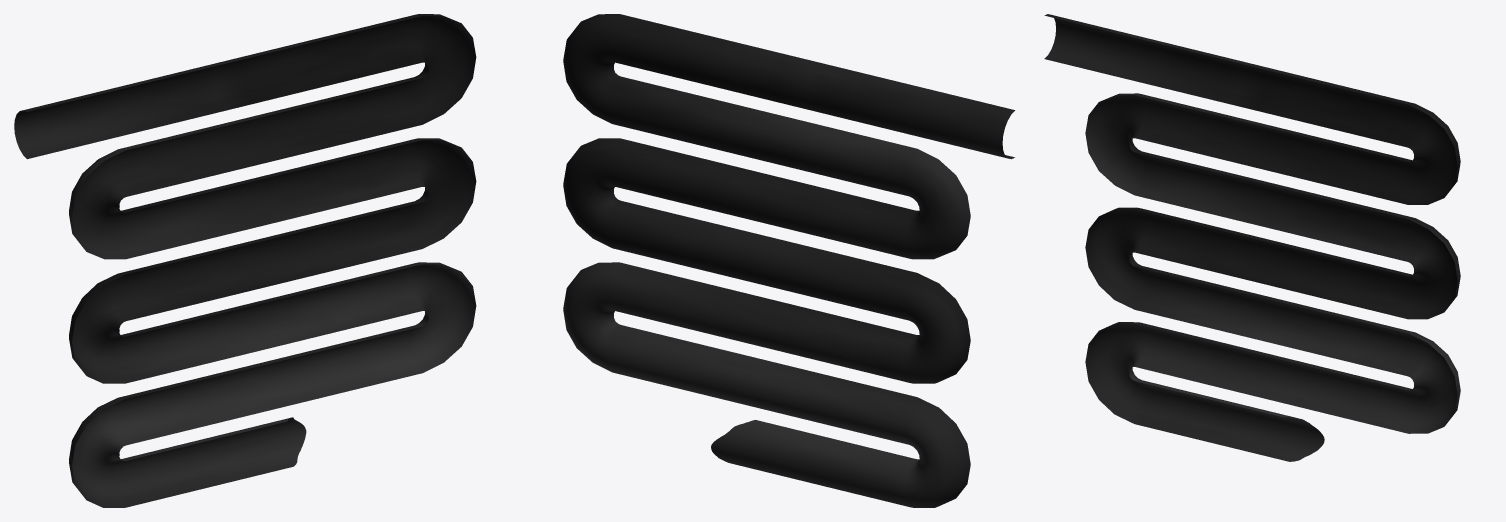
Rendered from LIUTI.FBX.
3 renders of one model, left to right at view 1: azimuth 30°, elevation 25°; view 2: azimuth 150°, elevation 25°; view 3: azimuth 330°, elevation 25°, orthographic. The views are drawn at different scales.
Parts seen in each view (by area): view 1: LIUTI; view 2: LIUTI; view 3: LIUTI.
Part boxes in pixels (<box>): LIUTI: <box>14,14,476,507</box>; LIUTI: <box>563,14,1015,507</box>; LIUTI: <box>1044,14,1460,461</box>.
Size of the model in its own units: 41.82 by 35.42 by 1.98.
